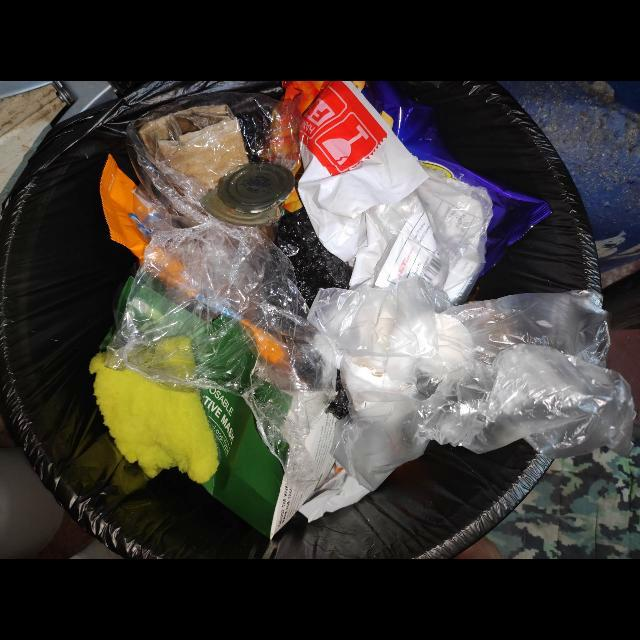aluminum: (203, 164, 294, 226)
plastic_bag: (107, 125, 341, 493), (308, 274, 634, 492), (300, 164, 494, 308), (283, 81, 428, 252)
